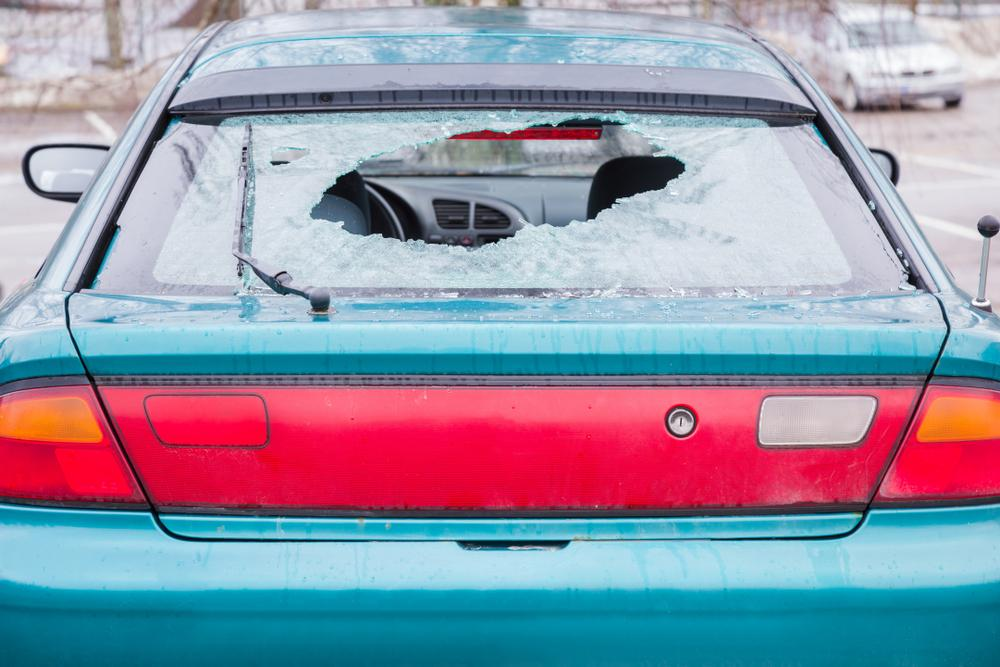glass shatter: (80, 107, 922, 299)
